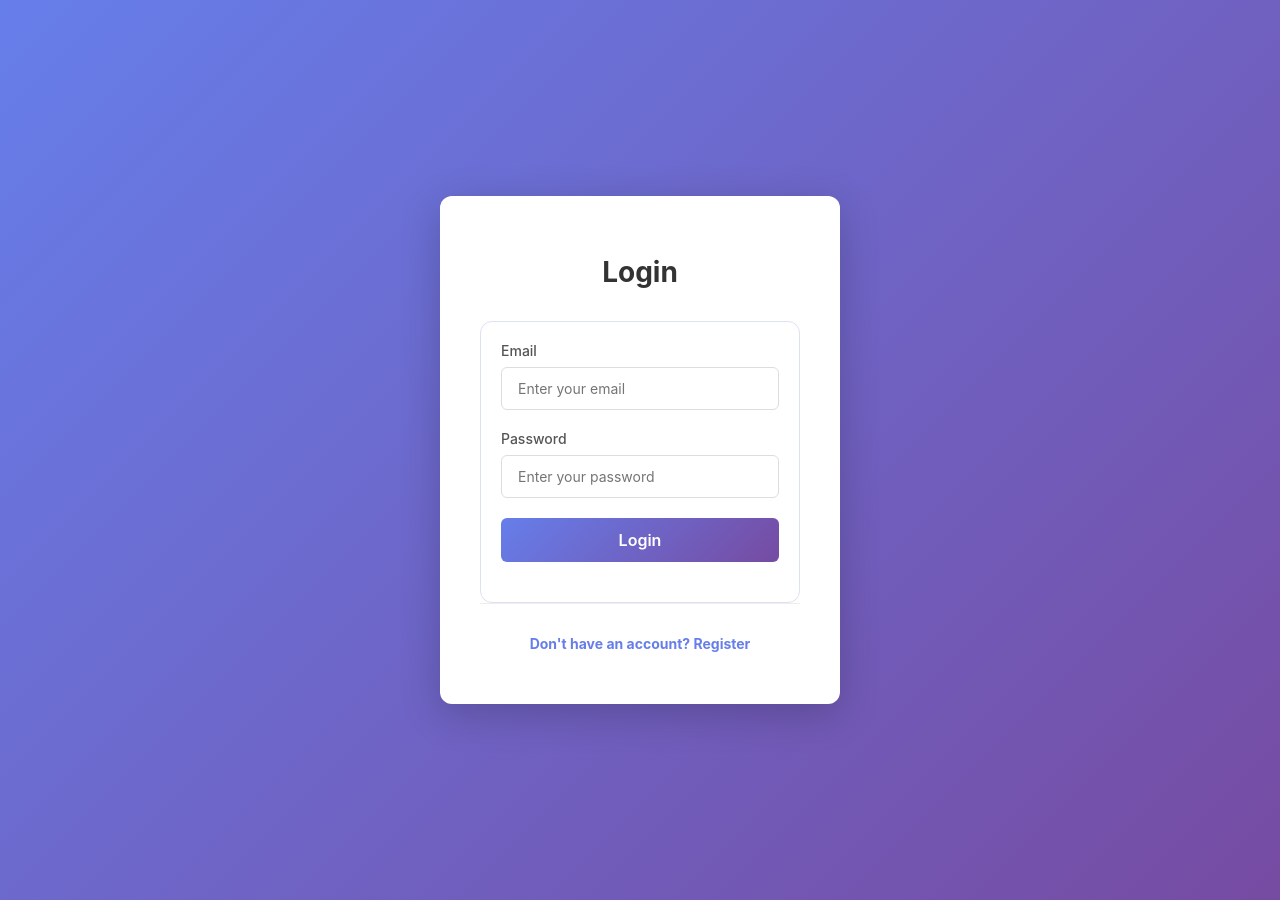
it: App routing and authentication › registers a new account
Click the button with test id "toggle-auth-mode". click: (640, 644)
box: top-left (514, 624), bottom-right (766, 664)
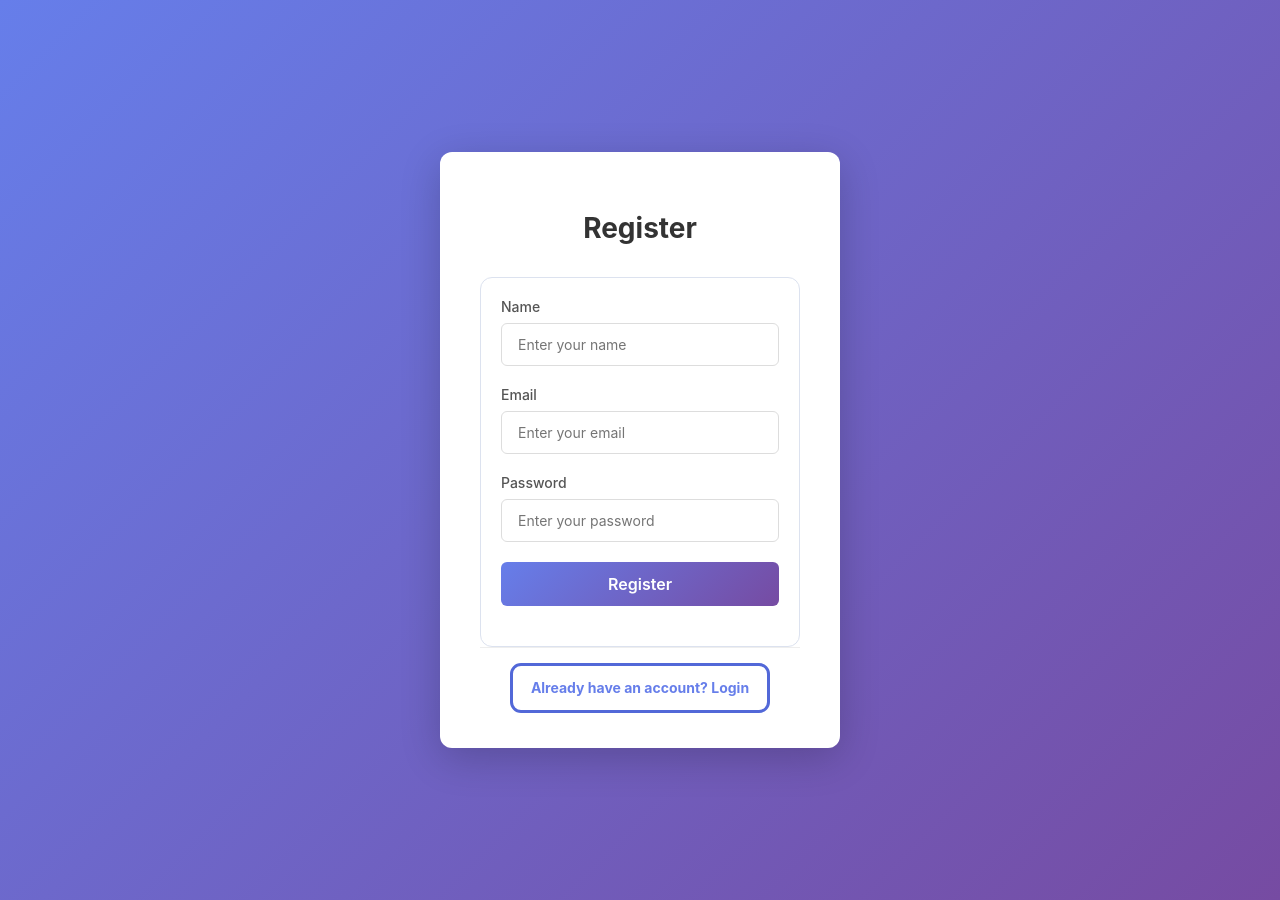
Type "New" into the field with test id "name-input". click: (640, 345)
box: top-left (501, 323), bottom-right (779, 366)
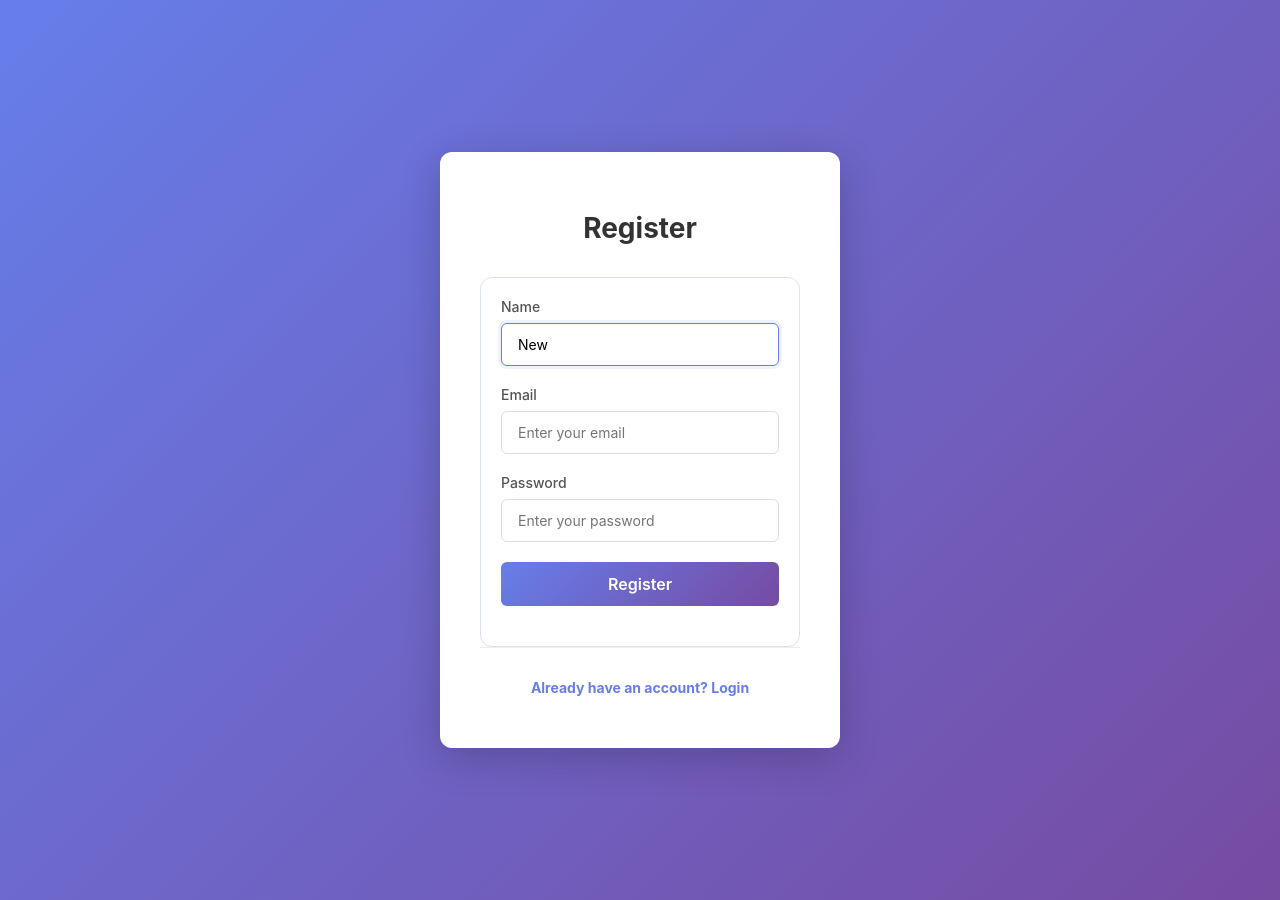
Type "new@example.com" into the field with test id "email-input". click: (640, 433)
box: top-left (501, 411), bottom-right (779, 454)
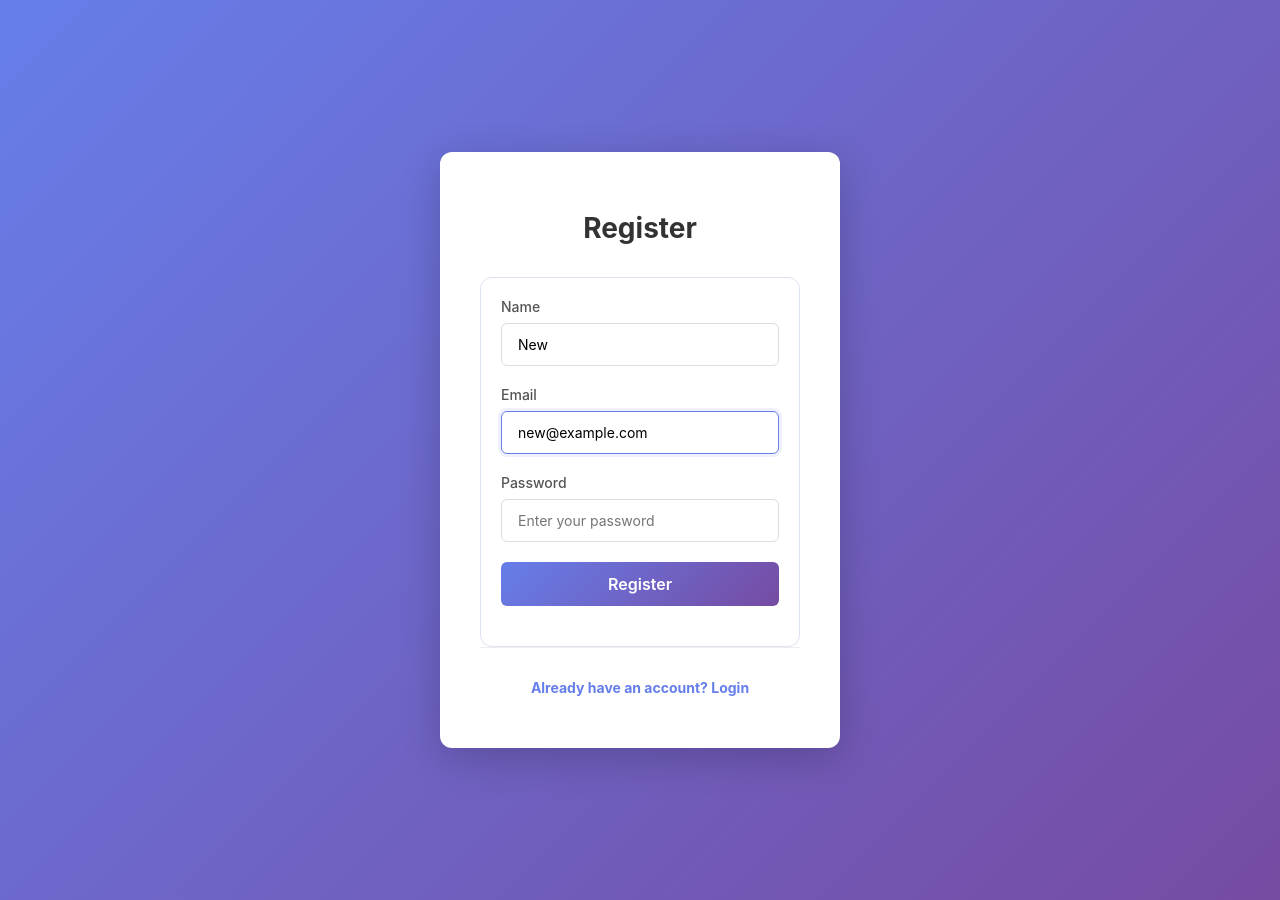
Type "Passw0rd!" into the password field with test id "password-input". click: (640, 521)
box: top-left (501, 499), bottom-right (779, 542)
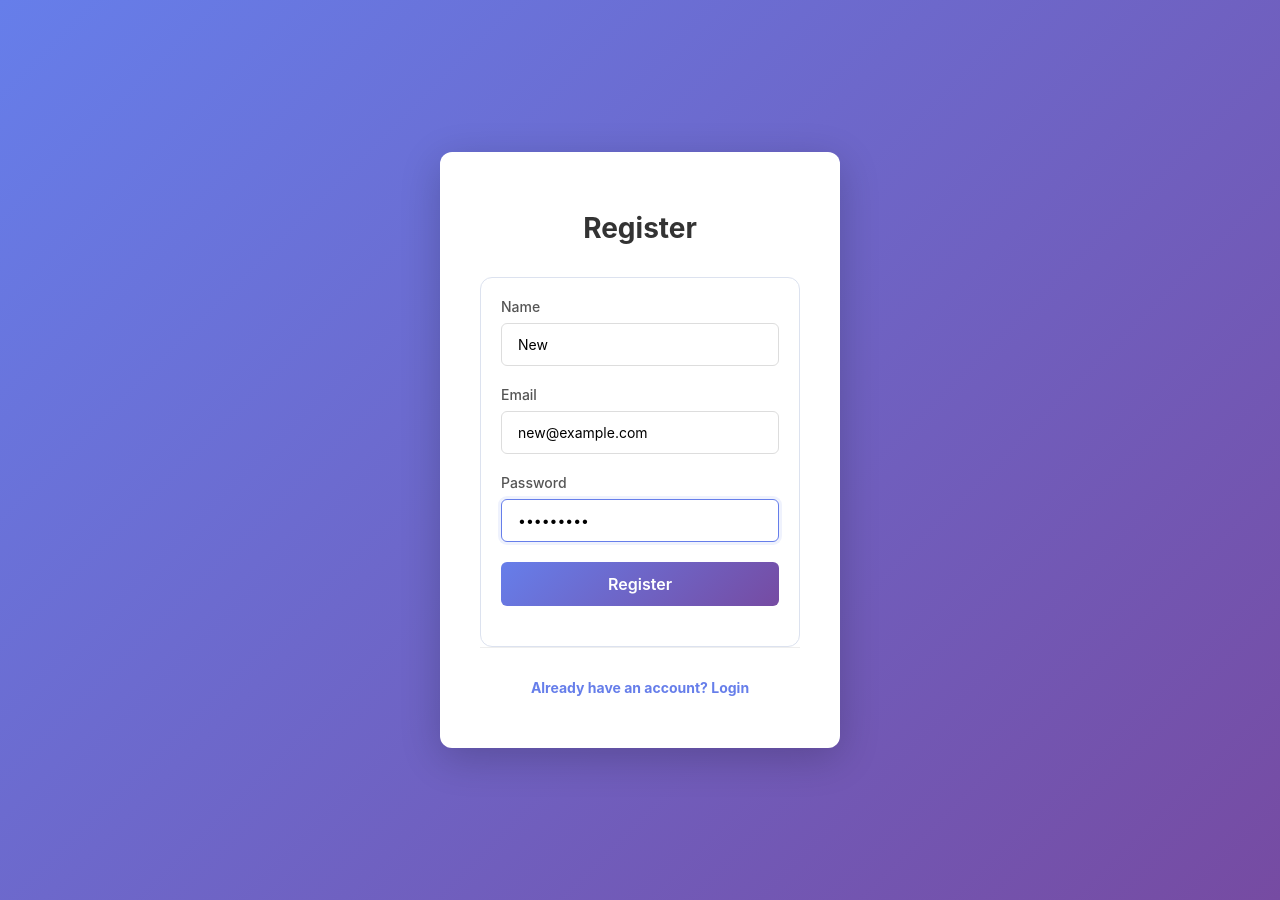
Click the button with test id "register-button". click: (640, 584)
box: top-left (501, 562), bottom-right (779, 606)
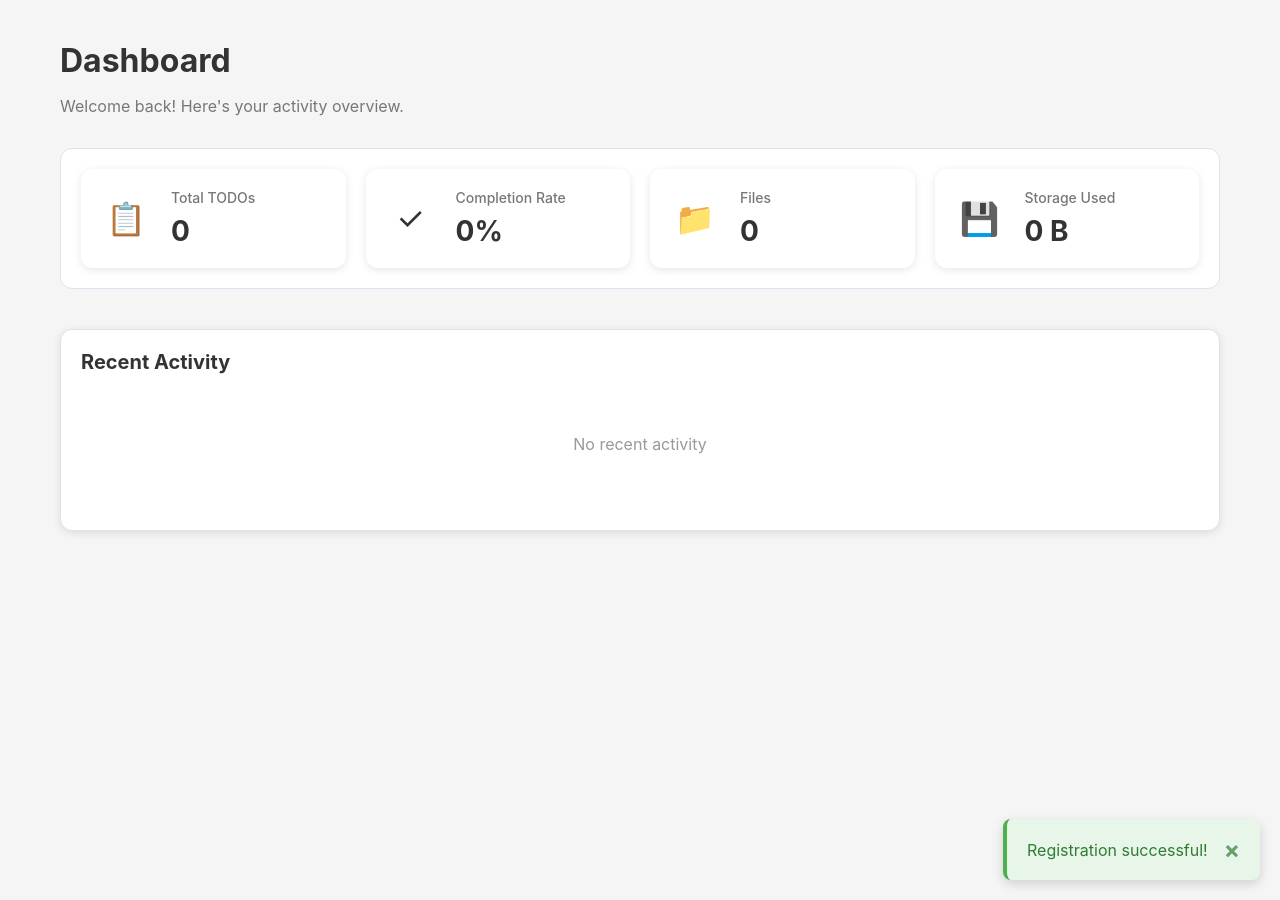
Now the element with test id "dashboard-page" is shown, box top-left (40, 0), bottom-right (1240, 551)
Now the message with test id "toast" shows "Registration successful!", box top-left (1027, 840), bottom-right (1208, 860)
